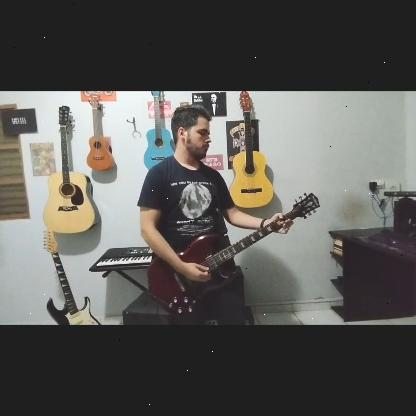acousticguitar: (44, 104, 96, 234), (229, 92, 273, 210), (144, 92, 174, 170)
guitar: (146, 194, 316, 314), (44, 228, 102, 326)
